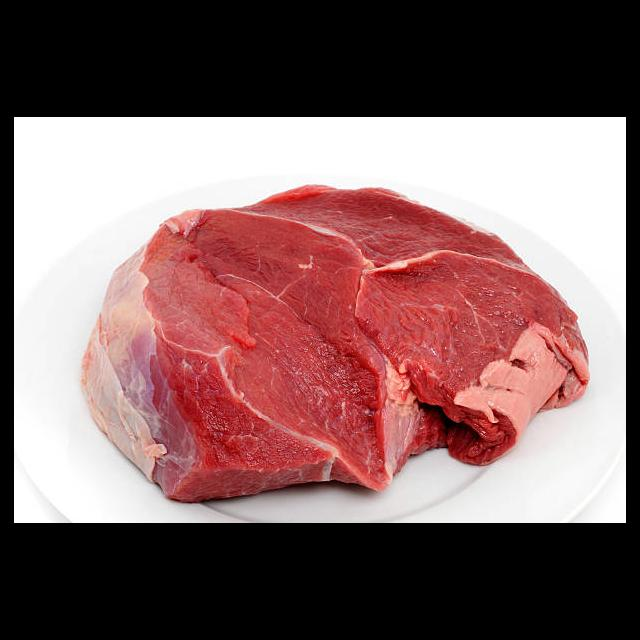beef: (79, 183, 590, 505)
